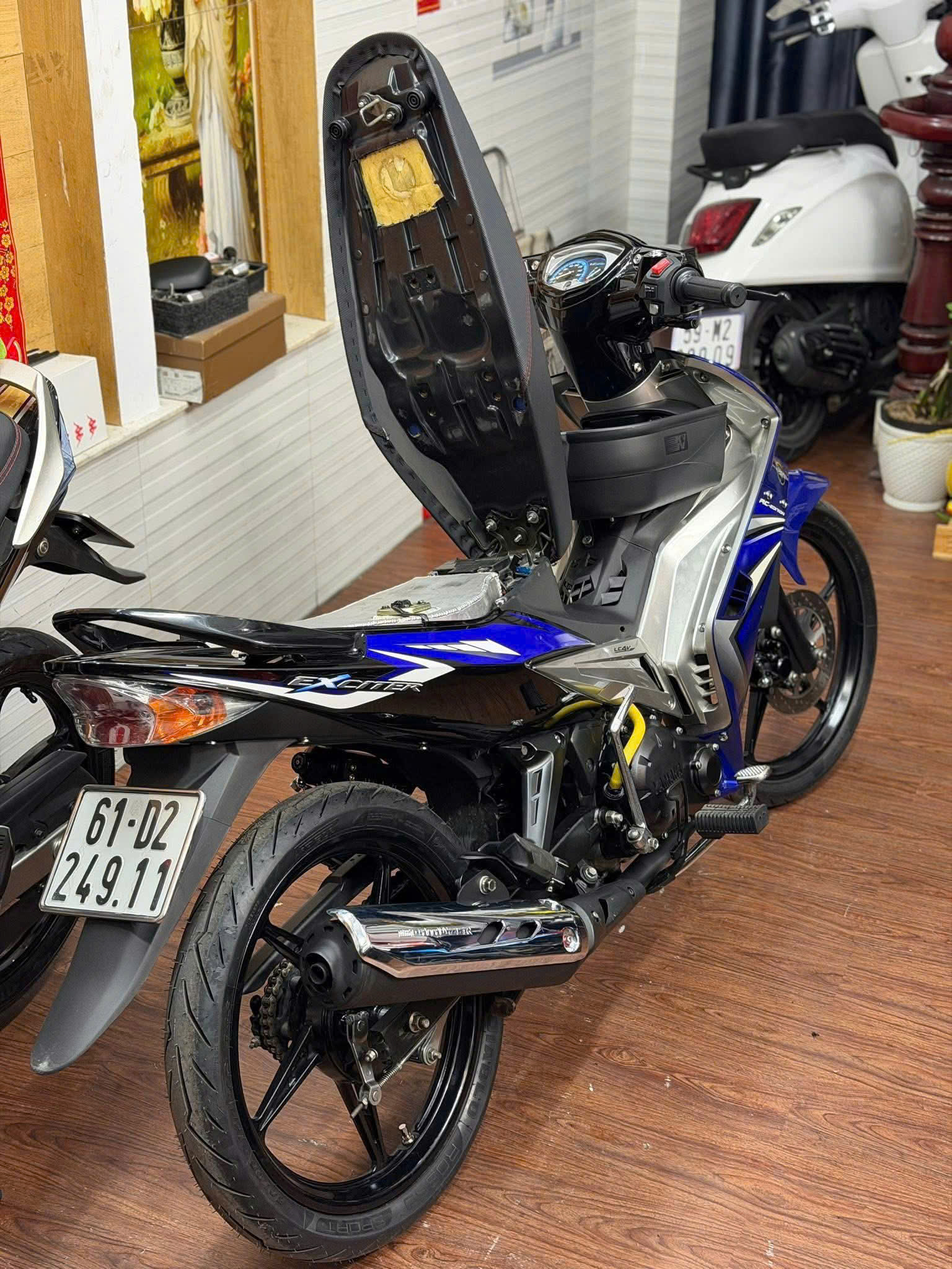Bien-so: (49, 787, 204, 920)
